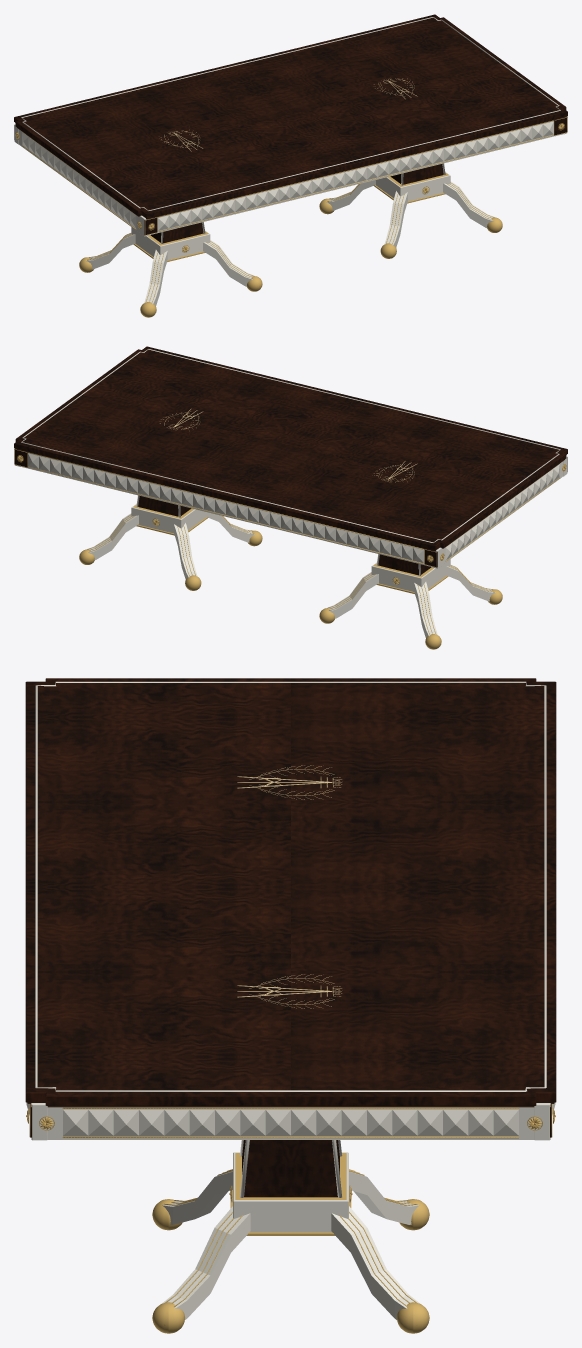
3 views of the same model, one above another, from view 1: azimuth 30°, elevation 25°; view 2: azimuth 150°, elevation 25°; view 3: azimuth 270°, elevation 25° (orthographic). The views are drawn at different scales.
Visible parts, largest first — view 1: Belgravia twin-pedestal dining table | dining-23 web batch; view 2: Belgravia twin-pedestal dining table | dining-23 web batch; view 3: Belgravia twin-pedestal dining table | dining-23 web batch.
Part boxes in pixels (bbox=[...]): Belgravia twin-pedestal dining table | dining-23 web batch: bbox=[14, 14, 567, 317]; Belgravia twin-pedestal dining table | dining-23 web batch: bbox=[14, 346, 567, 649]; Belgravia twin-pedestal dining table | dining-23 web batch: bbox=[25, 678, 556, 1333].
Bounding box in the file's own units: 2.46 × 0.7601 × 1.32.
Materials: 8 (1 with a texture image).
